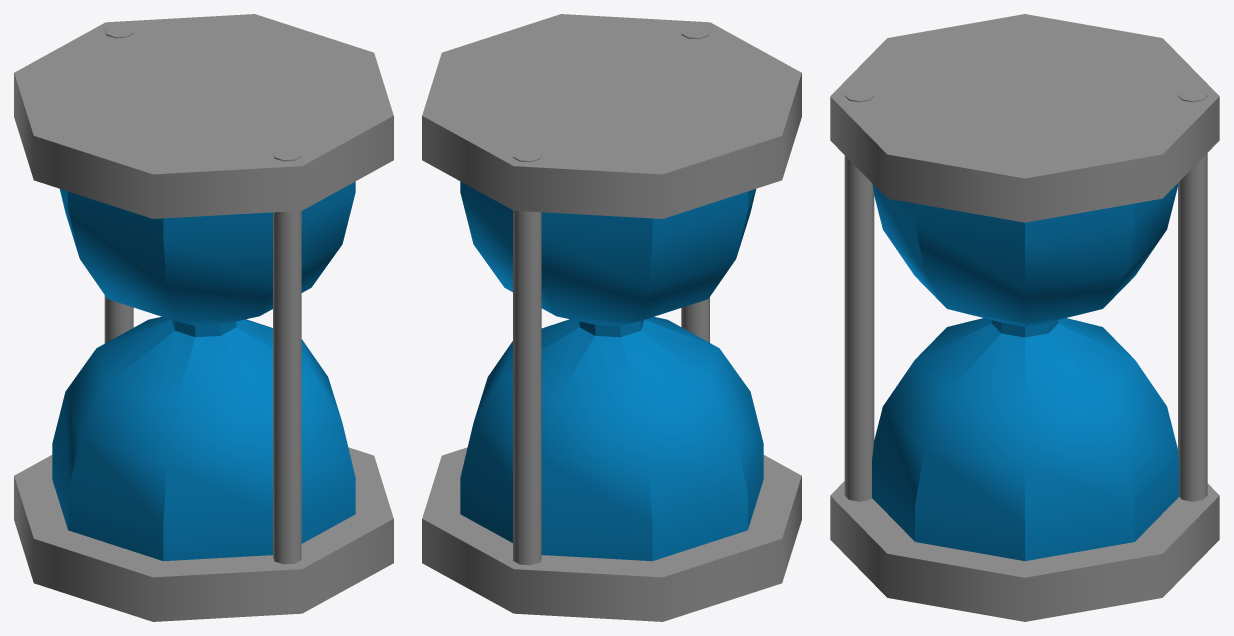
The model's file is hourglass.fbx.
The picture shows the model from 3 angles, left to right: view 1: azimuth 30°, elevation 25°; view 2: azimuth 150°, elevation 25°; view 3: azimuth 270°, elevation 25°; orthographic projection.
Parts seen in each view (by area): view 1: HourGlass; view 2: HourGlass; view 3: HourGlass.
Boxes of the visible parts, x1=… form: HourGlass: x1=14, y1=14, x2=393, y2=621; HourGlass: x1=422, y1=14, x2=801, y2=621; HourGlass: x1=830, y1=14, x2=1219, y2=621.
Size of the model in its own units: 147 by 185 by 147.
